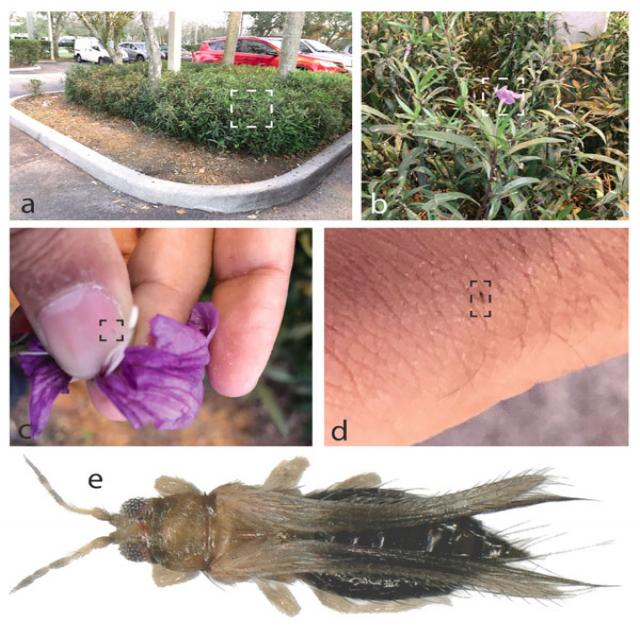Thrip-Adult-: (12, 448, 614, 611), (476, 285, 488, 306)
